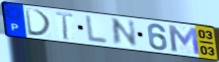6: (146, 22, 169, 52)
D: (24, 7, 54, 38)
L: (85, 14, 109, 46)
M: (166, 24, 202, 56)
N: (110, 17, 139, 47)
T: (54, 10, 76, 41)
